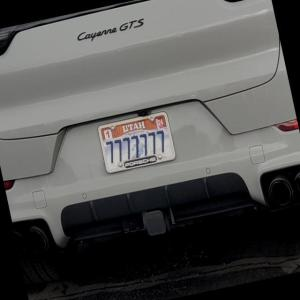Plate: (97, 111, 176, 174)
